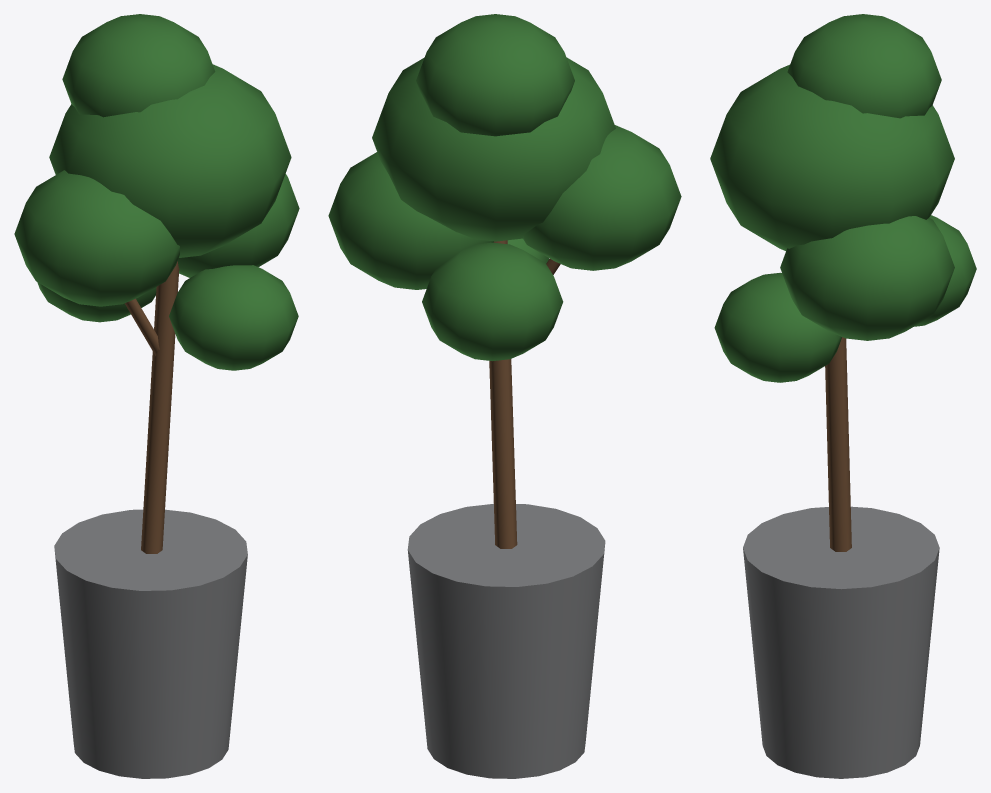
Rendered from ame-015.glb.
3 renders of one model, left to right at view 1: azimuth 30°, elevation 25°; view 2: azimuth 150°, elevation 25°; view 3: azimuth 270°, elevation 25°, orthographic. The views are drawn at different scales.
Visible parts, largest first — view 1: leaf_green, planter_grey, walnut; view 2: leaf_green, planter_grey, walnut; view 3: leaf_green, planter_grey, walnut.
Part boxes in pixels (x1,y1,x2,y2): leaf_green: [14, 14, 299, 370]; planter_grey: [54, 509, 247, 778]; walnut: [125, 261, 179, 553]; leaf_green: [328, 14, 681, 361]; planter_grey: [407, 503, 605, 778]; walnut: [489, 240, 560, 548]; leaf_green: [710, 14, 976, 382]; planter_grey: [743, 506, 939, 778]; walnut: [825, 337, 851, 551].
Bounding box in the file's own units: 0.78 × 1.82 × 0.61.
